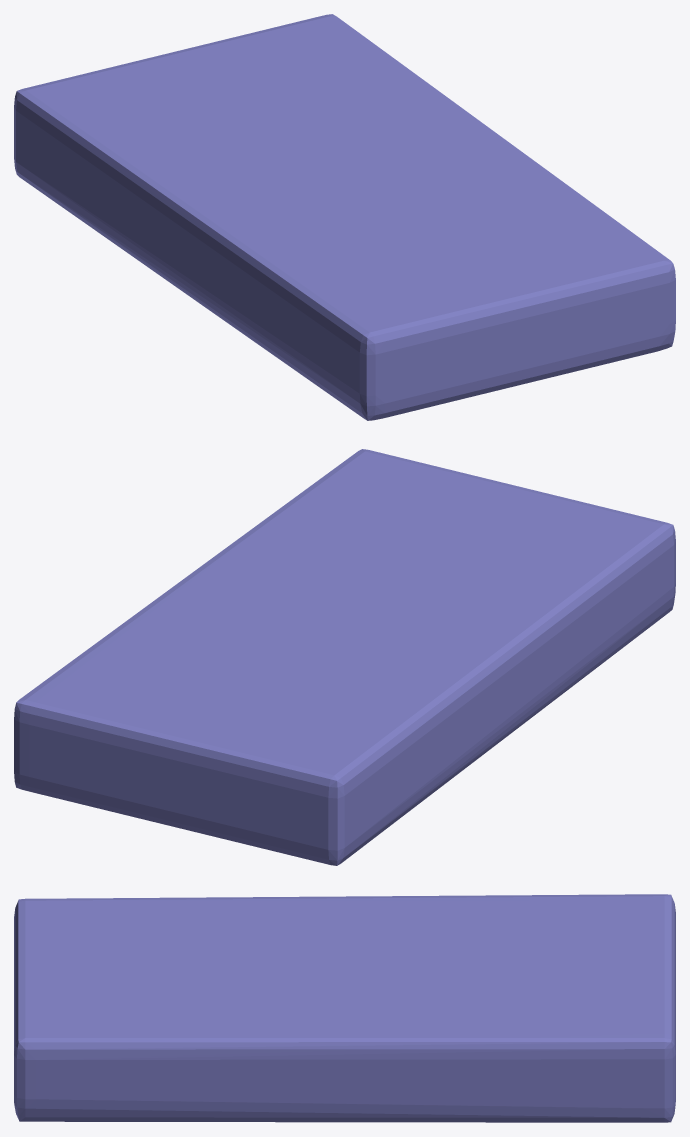
File: left_hip_pitch_link_part_12.obj
3 views of the same model, one above another, from view 1: azimuth 30°, elevation 25°; view 2: azimuth 150°, elevation 25°; view 3: azimuth 270°, elevation 25° (orthographic). The views are drawn at different scales.
Size of the model in its own units: 0.07 by 0.0179 by 0.129.
